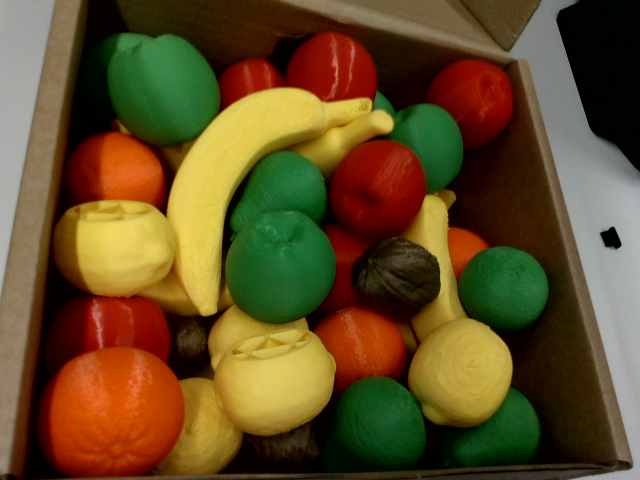banana: (113, 31, 374, 321), (389, 191, 469, 342), (288, 87, 397, 186), (137, 269, 199, 335)
green apple: (201, 190, 357, 345), (95, 22, 233, 161), (443, 228, 564, 348), (377, 87, 484, 197), (318, 374, 427, 473), (218, 144, 332, 238), (438, 388, 542, 466)
lemon: (386, 301, 534, 448), (201, 310, 352, 451), (52, 200, 175, 296), (152, 371, 254, 480), (193, 281, 309, 369), (0, 1, 0, 1)
orange: (38, 347, 184, 476), (310, 296, 413, 396), (62, 128, 170, 211), (426, 216, 490, 280)
red apple: (311, 120, 445, 256), (417, 41, 532, 156), (39, 286, 172, 373), (286, 30, 377, 101), (312, 221, 373, 317), (208, 49, 285, 109)
walnut: (340, 219, 455, 333), (235, 421, 323, 480), (167, 316, 215, 379)
